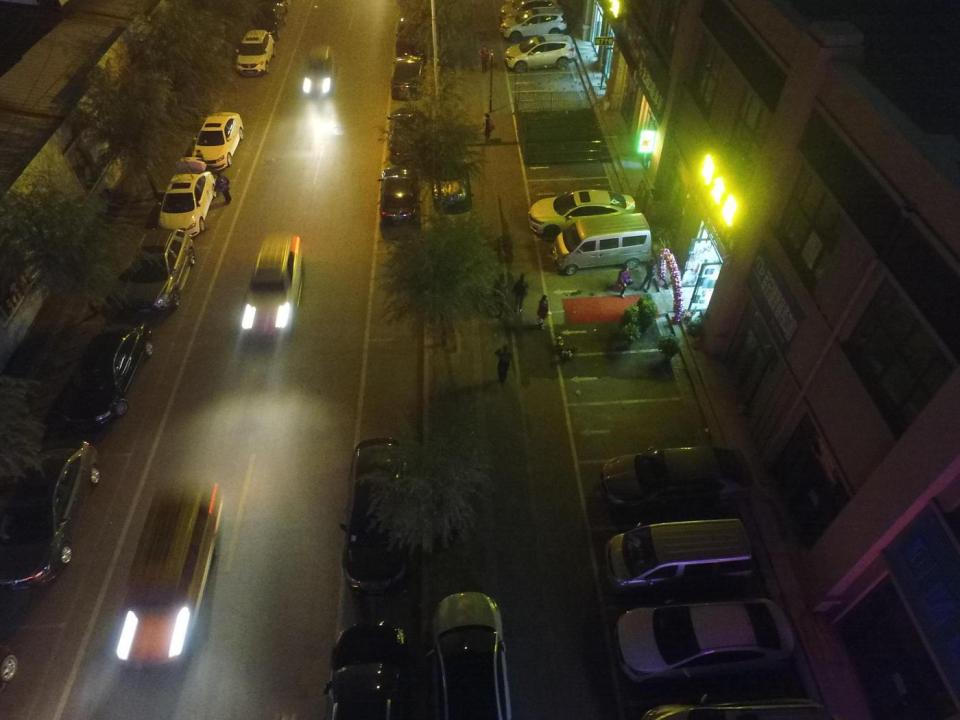car: (115, 483, 222, 664), (616, 599, 794, 685), (0, 438, 99, 590), (424, 592, 510, 720), (340, 438, 409, 593), (600, 446, 753, 513), (61, 318, 153, 426), (323, 622, 415, 720), (528, 190, 636, 237), (157, 156, 217, 237), (378, 167, 421, 238), (191, 112, 243, 169), (505, 34, 576, 72), (432, 128, 466, 204), (500, 8, 566, 43), (386, 108, 425, 164), (236, 29, 276, 76), (499, 0, 562, 28), (301, 46, 334, 94), (392, 54, 425, 100), (396, 17, 427, 60), (253, 3, 287, 39)
van: (605, 518, 752, 596), (550, 213, 651, 276), (123, 229, 195, 312), (242, 234, 302, 333), (643, 692, 820, 720)
